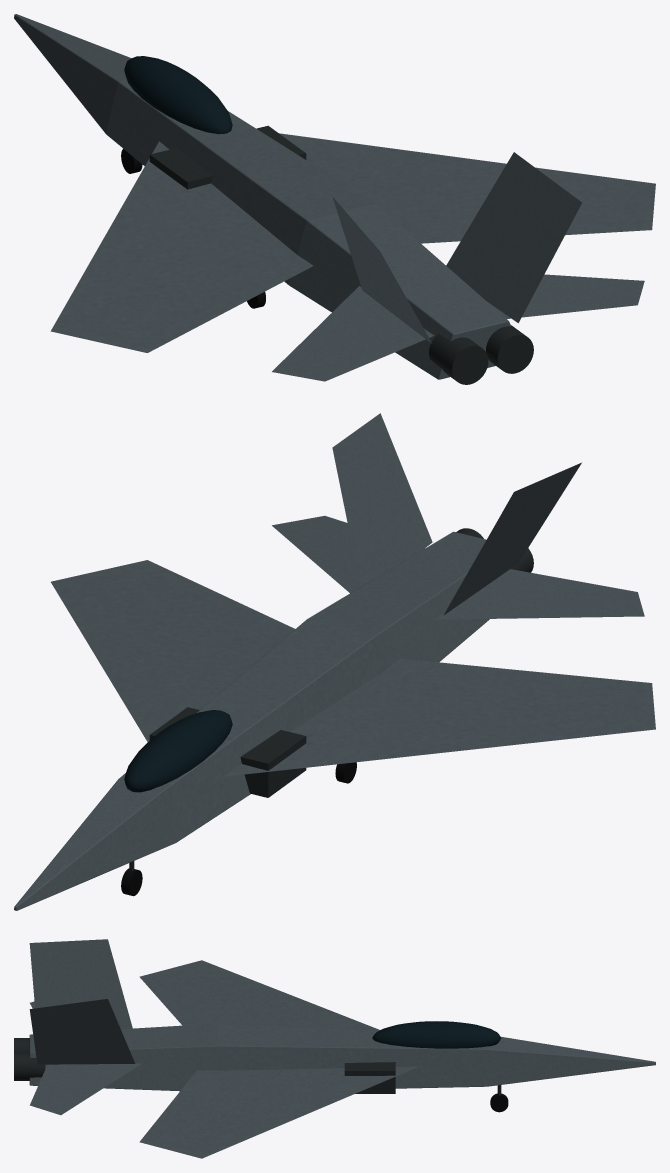
3 renders of one model, top to bottom at view 1: azimuth 30°, elevation 25°; view 2: azimuth 150°, elevation 25°; view 3: azimuth 270°, elevation 25°, orthographic. The views are drawn at different scales.
Visible parts, largest first — view 1: Hull_MVP gray paint, Hull_MVP exposed metal, Hull_MVP optical glass, RunningGear_MVP rubber; view 2: Hull_MVP gray paint, Hull_MVP optical glass, Hull_MVP exposed metal, RunningGear_MVP rubber; view 3: Hull_MVP gray paint, Hull_MVP optical glass, Hull_MVP exposed metal.
Boxes of the visible parts, x1,y1,x2,y2 form: Hull_MVP gray paint: (14,14,655,381); Hull_MVP exposed metal: (149,125,533,384); Hull_MVP optical glass: (124,56,232,134); RunningGear_MVP rubber: (121,148,265,308); Hull_MVP gray paint: (14,413,655,910); Hull_MVP optical glass: (124,710,232,792); Hull_MVP exposed metal: (149,528,533,797); RunningGear_MVP rubber: (121,762,356,896); Hull_MVP gray paint: (29,939,655,1158); Hull_MVP optical glass: (372,1021,501,1048); Hull_MVP exposed metal: (14,1038,395,1093).
Size of the model in its own units: 12 by 4 by 16.4.
Materials: 4 (4 with a texture image).
